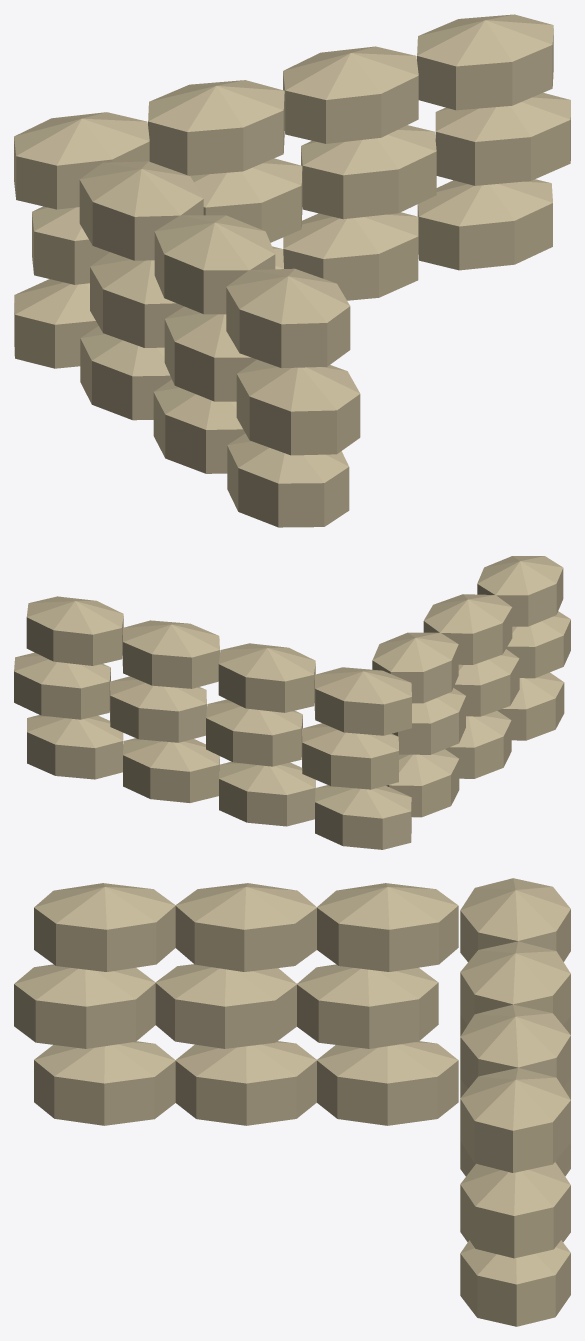
Rendered from cover_sandbags_b.glb.
3 renders of one model, top to bottom at view 1: azimuth 30°, elevation 25°; view 2: azimuth 150°, elevation 25°; view 3: azimuth 270°, elevation 25°, orthographic. The views are drawn at different scales.
Parts seen in each view (by area): view 1: LOD0; view 2: LOD0; view 3: LOD0.
Boxes of the visible parts, bbox=[...] form: LOD0: bbox=[14, 14, 570, 527]; LOD0: bbox=[14, 556, 570, 849]; LOD0: bbox=[14, 878, 570, 1326].
Size of the model in its own units: 2.48 by 1.04 by 2.23.
